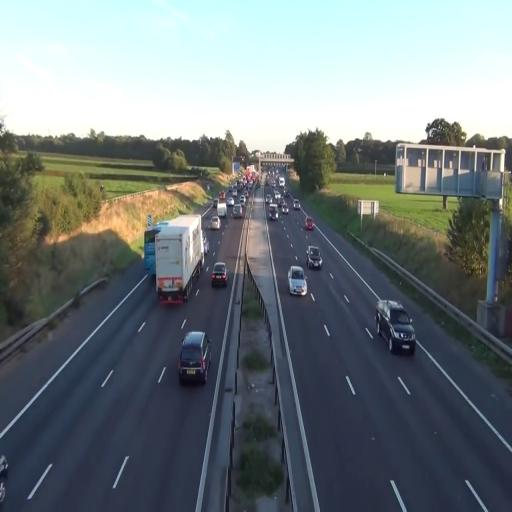vehicle: (154, 212, 204, 305), (376, 298, 416, 356), (376, 300, 416, 356), (178, 331, 210, 386), (288, 265, 308, 296), (211, 262, 229, 288), (306, 245, 322, 270), (266, 202, 278, 220), (217, 202, 228, 220), (304, 218, 314, 232)
